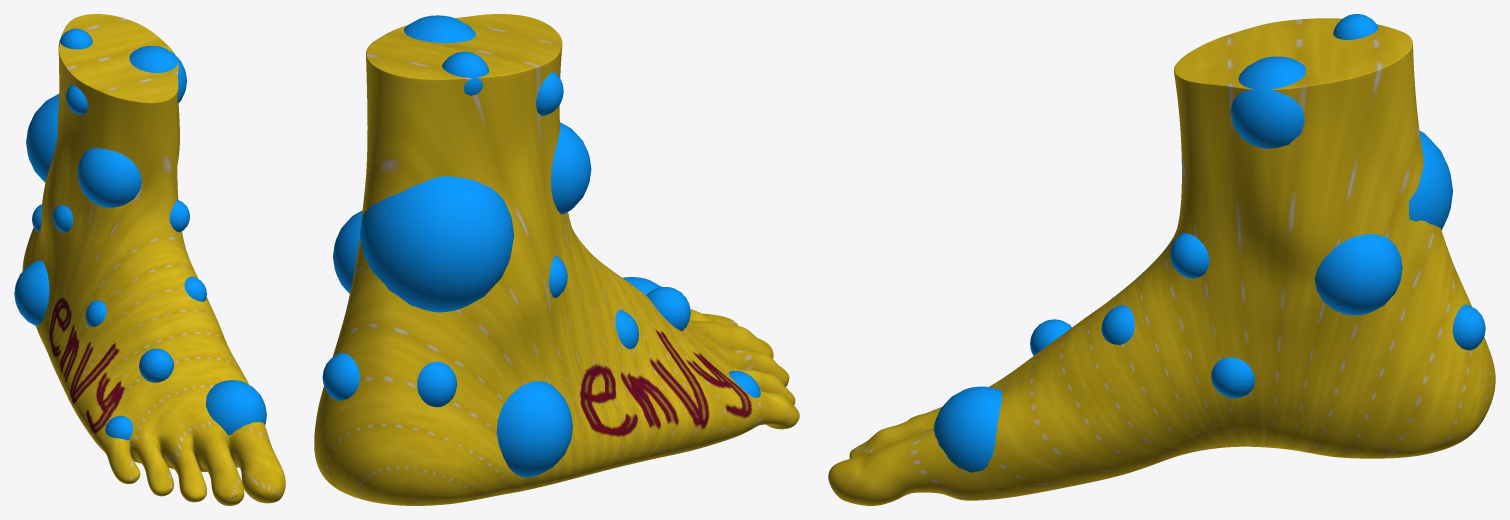
The model's file is legs.glb.
3 renders of one model, left to right at view 1: azimuth 30°, elevation 25°; view 2: azimuth 150°, elevation 25°; view 3: azimuth 270°, elevation 25°, orthographic. The views are drawn at different scales.
Visible parts, largest first — view 1: _foot_V2_foot, Sphere_2, Sphere_13, Sphere_5, Sphere_9, Sphere, Sphere_15, Sphere_4, Sphere_14, Sphere_3, Sphere_1, Sphere_8 (+2 smaller); view 2: _foot_V2_foot, Sphere_5, Sphere_9, Sphere_2, Sphere, Sphere_6, Sphere_12, Sphere_11, Sphere_15, Sphere_4, Sphere_1, Sphere_8 (+1 smaller); view 3: _foot_V2_foot, Sphere_6, Sphere, Sphere_13, Sphere_5, Sphere_7, Sphere_3, Sphere_11, Sphere_16, Sphere_4, Sphere_15.
Boxes of the visible parts, box(x1,y1,x2,y2) form: _foot_V2_foot: box(22, 14, 285, 505); Sphere_2: box(77, 148, 141, 207); Sphere_13: box(205, 380, 266, 435); Sphere_5: box(26, 94, 58, 182); Sphere_9: box(14, 260, 49, 326); Sphere: box(129, 46, 186, 103); Sphere_15: box(139, 348, 173, 382); Sphere_4: box(58, 28, 92, 49); Sphere_14: box(105, 415, 132, 440); Sphere_3: box(169, 200, 189, 232); Sphere_1: box(66, 85, 87, 114); Sphere_8: box(85, 300, 106, 326); _foot_V2_foot: box(314, 14, 799, 505); Sphere_5: box(359, 176, 513, 312); Sphere_9: box(496, 381, 572, 477); Sphere_2: box(551, 122, 591, 214); Sphere: box(404, 15, 475, 43); Sphere_6: box(333, 210, 362, 293); Sphere_12: box(417, 361, 457, 407); Sphere_11: box(322, 353, 359, 400); Sphere_15: box(646, 287, 690, 330); Sphere_4: box(442, 51, 489, 95); Sphere_1: box(536, 71, 563, 115); Sphere_8: box(615, 310, 639, 349); _foot_V2_foot: box(828, 18, 1495, 505); Sphere_6: box(1314, 234, 1402, 315); Sphere: box(1230, 56, 1305, 148); Sphere_13: box(933, 386, 1002, 472); Sphere_5: box(1408, 131, 1452, 230); Sphere_7: box(1211, 357, 1254, 398); Sphere_3: box(1170, 233, 1209, 278); Sphere_11: box(1452, 304, 1485, 350); Sphere_16: box(1101, 305, 1134, 344); Sphere_4: box(1333, 14, 1378, 39); Sphere_15: box(1030, 319, 1071, 355).
Bounding box in the file's own units: 11.78 × 21.49 × 27.24.
2 materials, 2 textured.
